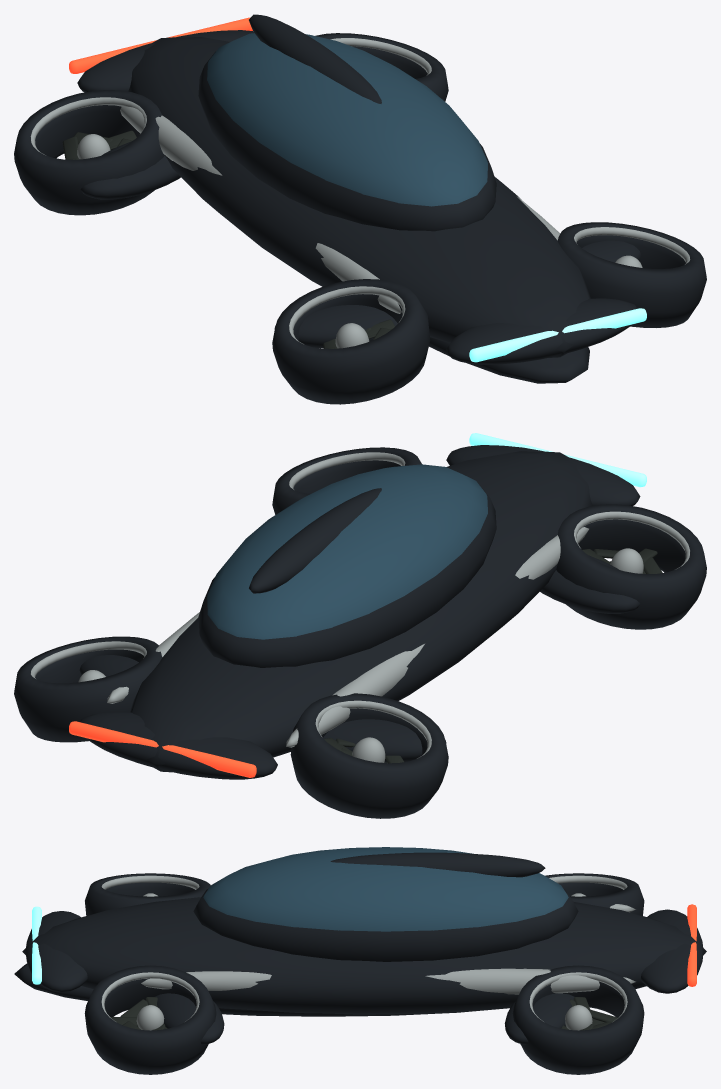
File: car-9.glb
The picture shows the model from 3 angles, top to bottom: view 1: azimuth 30°, elevation 25°; view 2: azimuth 150°, elevation 25°; view 3: azimuth 270°, elevation 25°; orthographic projection. The views are drawn at different scales.
Visible parts, largest first — view 1: canopy_rim.002, cockpit_glazing.006, satin_duct.008, satin_duct.009, satin_duct.010, shoulder_sweep.001, satin_duct.011, headlamp_front_bar.004, duct_lip.008, duct_lip.009, duct_lip.010, taillamp_rear_bar.004 (+2 smaller); view 2: canopy_rim.002, cockpit_glazing.006, satin_duct.008, satin_duct.009, satin_duct.011, shoulder_sweep.001, satin_duct.010, taillamp_rear_bar.004, duct_lip.008, duct_lip.009, duct_lip.011, headlamp_front_bar.004 (+2 smaller); view 3: canopy_rim.002, cockpit_glazing.006, satin_duct.010, satin_duct.011, shoulder_sweep.001, satin_duct.008, satin_duct.009, duct_lip.010, duct_lip.011, duct_lip.008, taillamp_rear_bar.004, headlamp_front_bar.004 (+3 smaller).
Boxes of the visible parts, bbox=[...] form: canopy_rim.002: bbox=[77, 14, 641, 383]; cockpit_glazing.006: bbox=[207, 33, 487, 206]; satin_duct.008: bbox=[272, 279, 430, 404]; satin_duct.009: bbox=[14, 90, 164, 215]; satin_duct.010: bbox=[558, 222, 706, 327]; shoulder_sweep.001: bbox=[120, 106, 560, 313]; satin_duct.011: bbox=[315, 33, 448, 101]; headlamp_front_bar.004: bbox=[469, 308, 646, 362]; duct_lip.008: bbox=[289, 286, 405, 348]; duct_lip.009: bbox=[30, 97, 146, 159]; duct_lip.010: bbox=[574, 227, 690, 267]; taillamp_rear_bar.004: bbox=[69, 17, 252, 73]; canopy_rim.002: bbox=[79, 445, 640, 779]; cockpit_glazing.006: bbox=[207, 464, 487, 639]; satin_duct.008: bbox=[556, 504, 706, 629]; satin_duct.009: bbox=[290, 693, 448, 818]; satin_duct.011: bbox=[14, 636, 162, 742]; shoulder_sweep.001: bbox=[107, 527, 588, 747]; satin_duct.010: bbox=[272, 447, 421, 514]; taillamp_rear_bar.004: bbox=[69, 721, 256, 777]; duct_lip.008: bbox=[574, 511, 689, 573]; duct_lip.009: bbox=[315, 700, 431, 762]; duct_lip.011: bbox=[31, 641, 146, 682]; headlamp_front_bar.004: bbox=[469, 433, 646, 487]; canopy_rim.002: bbox=[14, 852, 706, 1044]; cockpit_glazing.006: bbox=[203, 847, 568, 931]; satin_duct.010: bbox=[84, 965, 216, 1074]; satin_duct.011: bbox=[512, 965, 644, 1074]; shoulder_sweep.001: bbox=[141, 904, 635, 994]; satin_duct.008: bbox=[85, 873, 210, 915]; satin_duct.009: bbox=[545, 873, 644, 915]; duct_lip.010: bbox=[101, 972, 199, 1030]; duct_lip.011: bbox=[529, 972, 627, 1030]; duct_lip.008: bbox=[101, 875, 199, 896]; taillamp_rear_bar.004: bbox=[687, 904, 696, 986]; headlamp_front_bar.004: bbox=[32, 906, 41, 984].
Size of the model in its own units: 2.4 by 0.9737 by 4.21.
